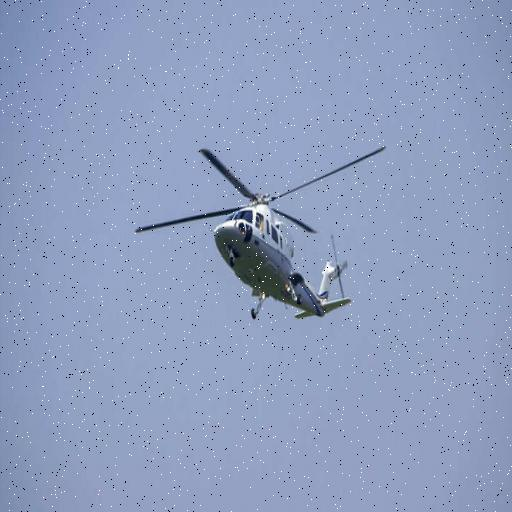helicopter: (133, 127, 392, 333)
